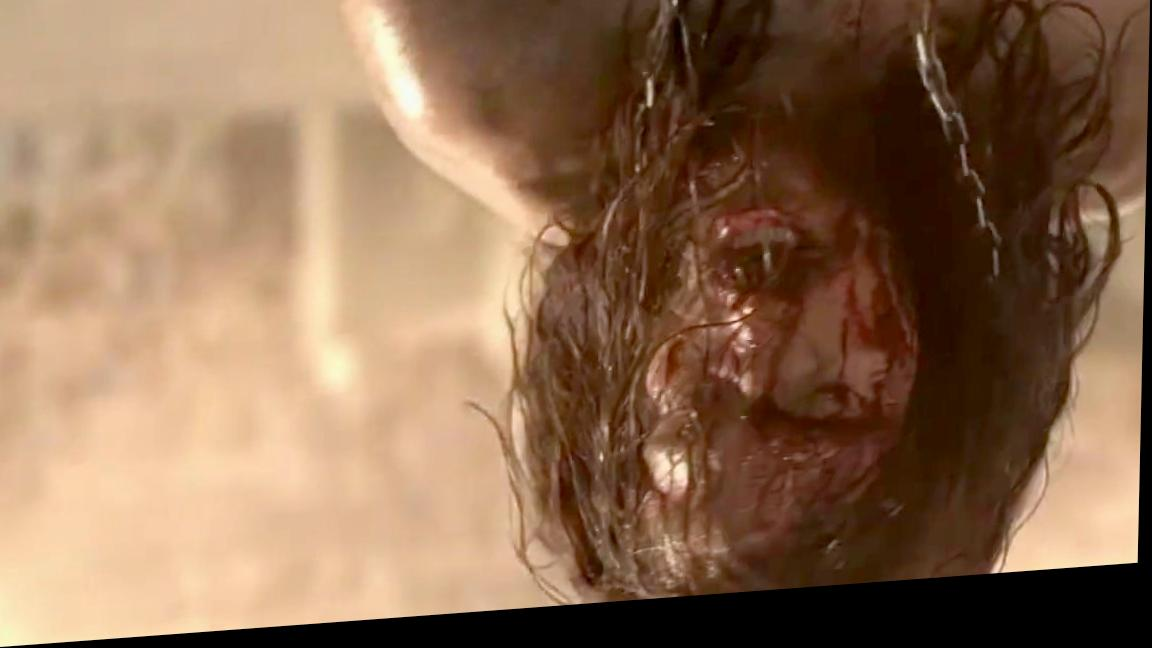Fire: (646, 221, 920, 565)
